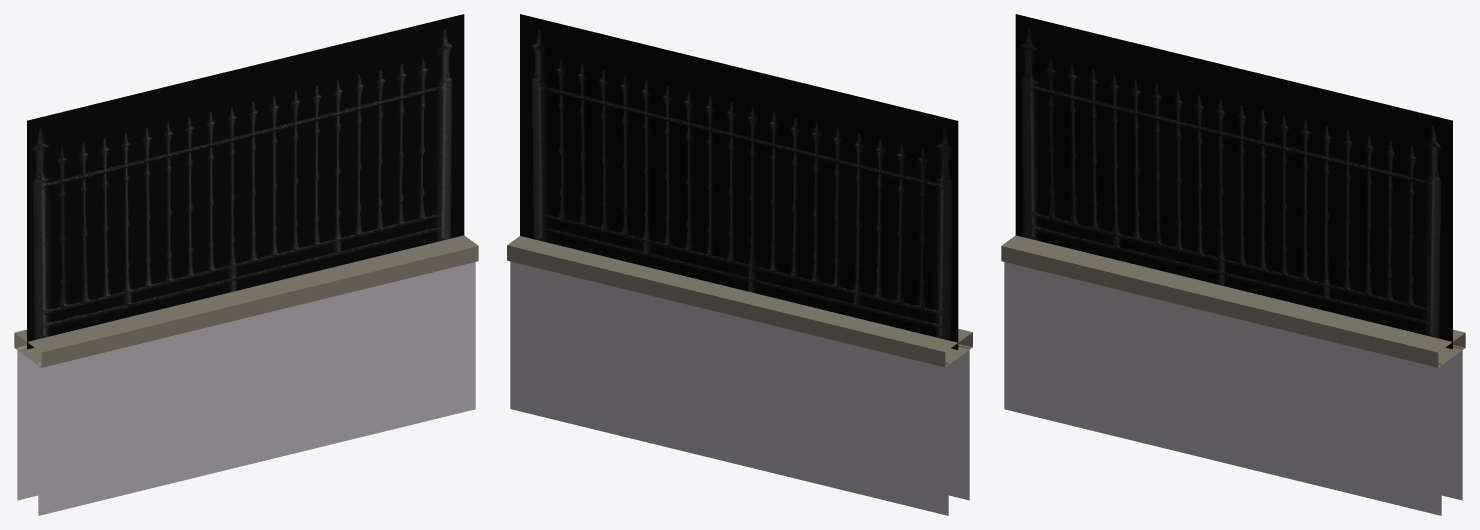
File: FencesShort.fbx
The picture shows the model from 3 angles, left to right: view 1: azimuth 30°, elevation 25°; view 2: azimuth 150°, elevation 25°; view 3: azimuth 330°, elevation 25°; orthographic projection.
Parts seen in each view (by area): view 1: Fence.001; view 2: Fence.001; view 3: Fence.001.
Boxes of the visible parts, left/top/right/bottom form: Fence.001: left=14, top=14, right=478, bottom=515; Fence.001: left=507, top=14, right=972, bottom=515; Fence.001: left=1001, top=14, right=1465, bottom=515.
Bounding box in the file's own units: 300 × 254 × 32.5.
